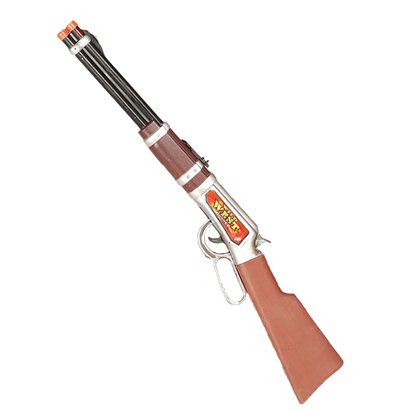Arma Falsa: (55, 20, 346, 403)
